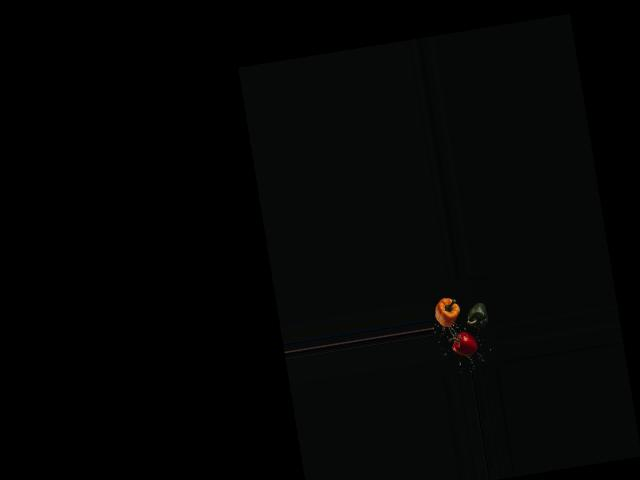bell_pepper: (443, 324, 483, 359)
